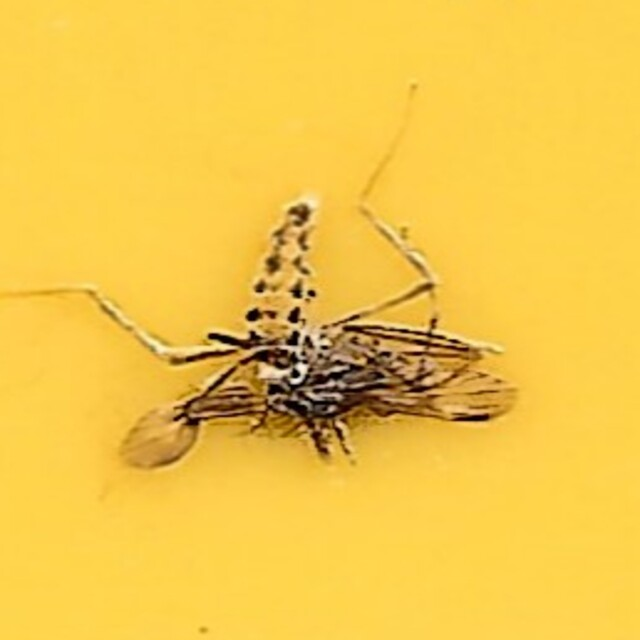Nematocera: (248, 204, 392, 436)
